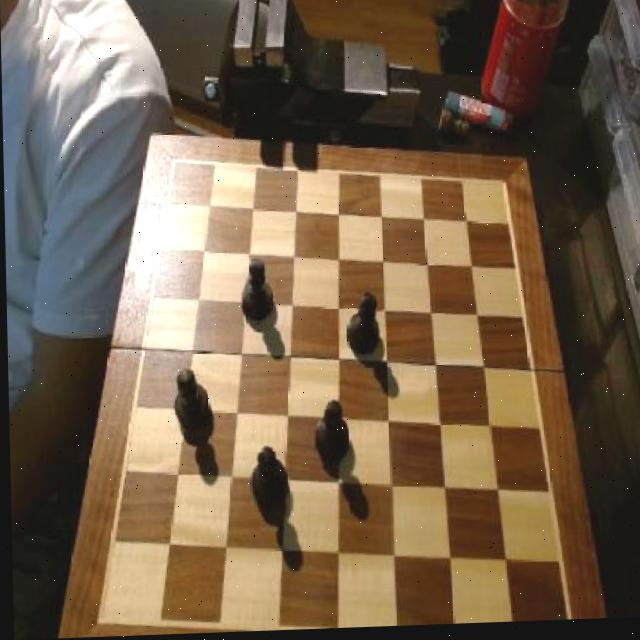black-knight: (171, 368, 211, 443), (248, 447, 287, 523), (342, 292, 380, 362), (310, 404, 348, 470), (238, 261, 275, 327)
